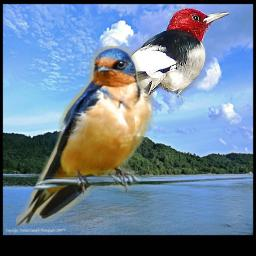Swallow: (16, 46, 154, 227)
Woodpecker: (113, 7, 233, 106)
